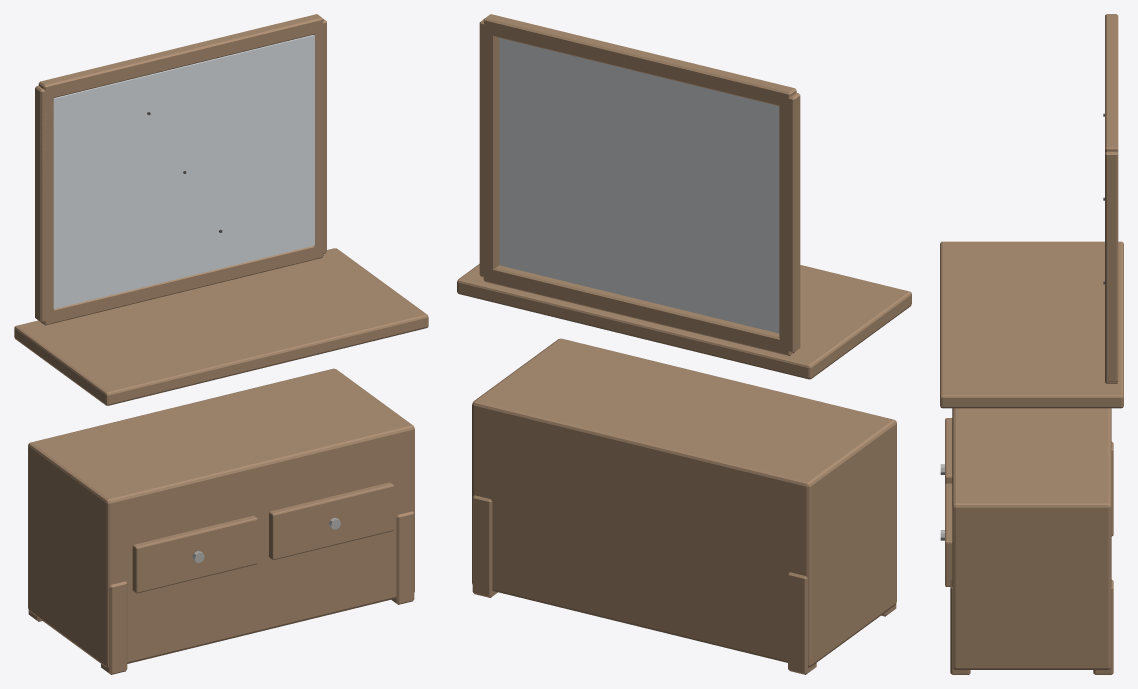
Rendered from vanity_01.glb.
3 views of the same model, side by side, from view 1: azimuth 30°, elevation 25°; view 2: azimuth 150°, elevation 25°; view 3: azimuth 270°, elevation 25° (orthographic). The views are drawn at different scales.
Visible parts, largest first — view 1: vanity_01; view 2: vanity_01; view 3: vanity_01.
Part boxes in pixels (box(x1,y1,x2,y2)): vanity_01: box(14, 14, 428, 674); vanity_01: box(457, 14, 911, 674); vanity_01: box(940, 14, 1123, 674).
Size of the model in its own units: 0.9 by 1.41 by 0.45.
